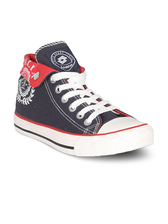shoes: (10, 39, 154, 159)
